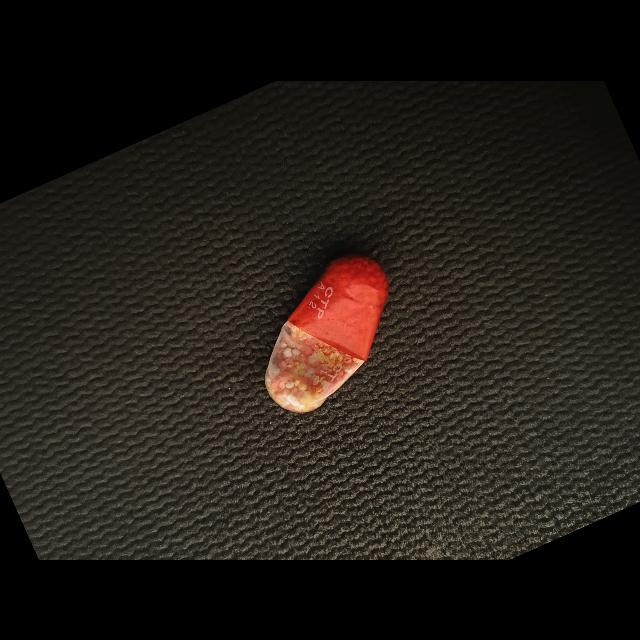Defective Capsule: (265, 255, 389, 412)
